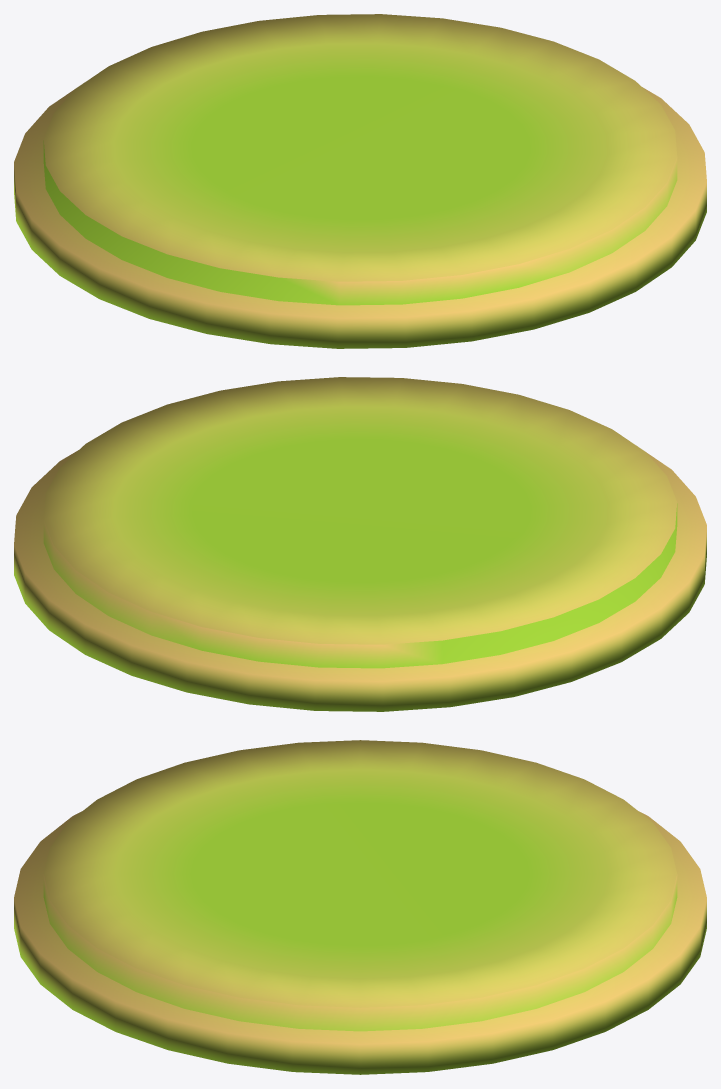
File: Sertania.glb
3 views of the same model, one above another, from view 1: azimuth 30°, elevation 25°; view 2: azimuth 150°, elevation 25°; view 3: azimuth 270°, elevation 25° (orthographic).
Parts seen in each view (by area): view 1: Cactu.001; view 2: Cactu.001; view 3: Cactu.001.
Part boxes in pixels (x1,y1,x2,y2): Cactu.001: (14,14,706,348); Cactu.001: (14,377,706,711); Cactu.001: (14,740,706,1074).
Size of the model in its own units: 4.68 by 0.4054 by 4.68.
Materials: 1 (1 with a texture image).
